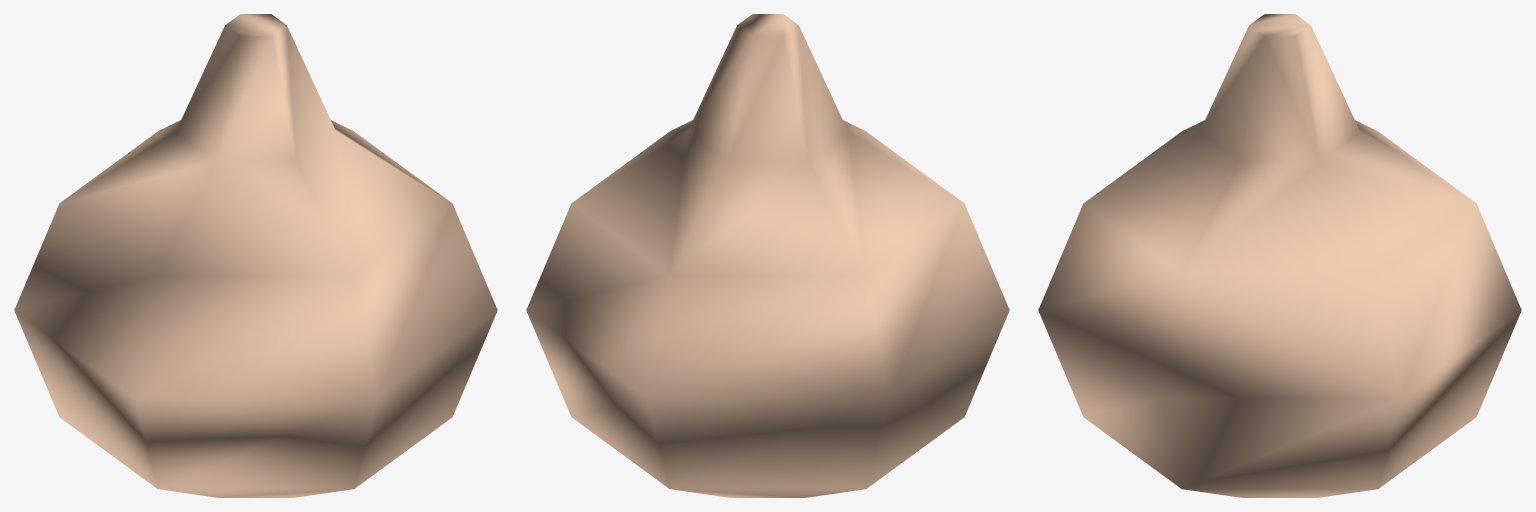
The model's file is onion.glb.
The picture shows the model from 3 angles, left to right: view 1: azimuth 30°, elevation 25°; view 2: azimuth 150°, elevation 25°; view 3: azimuth 270°, elevation 25°; orthographic projection.
Parts seen in each view (by area): view 1: onion; view 2: onion; view 3: onion.
Part boxes in pixels (x1=…): onion: x1=14, y1=14, x2=497, y2=497; onion: x1=526, y1=14, x2=1009, y2=497; onion: x1=1038, y1=14, x2=1521, y2=497.
Size of the model in its own units: 0.213 by 0.25 by 0.246.
